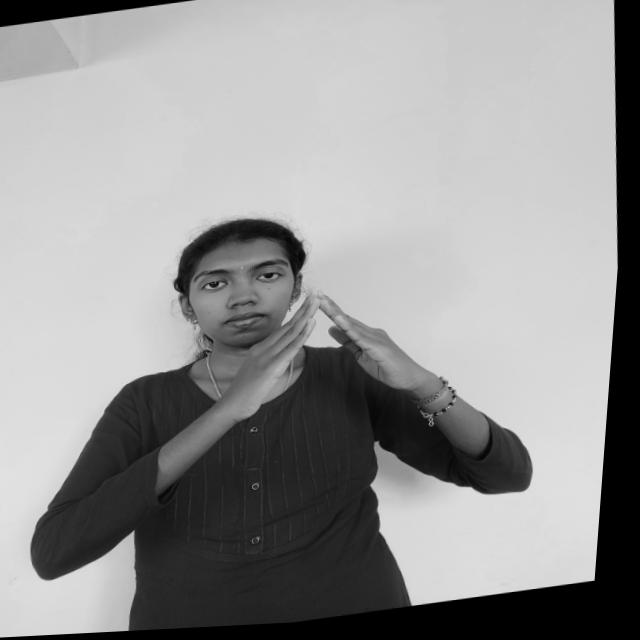Home: (200, 279, 447, 437)
